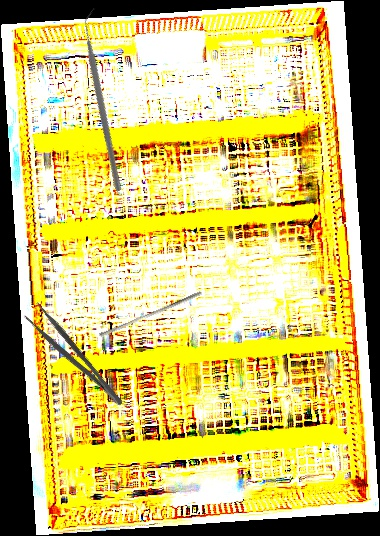Chopper: (13, 6, 199, 194)
Dressing Forceps: (22, 300, 126, 416)
Pusher: (98, 286, 203, 342)
